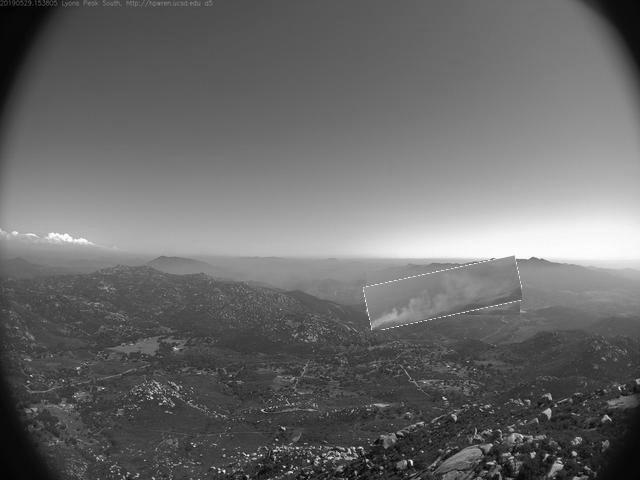smoke: (366, 264, 523, 325)
